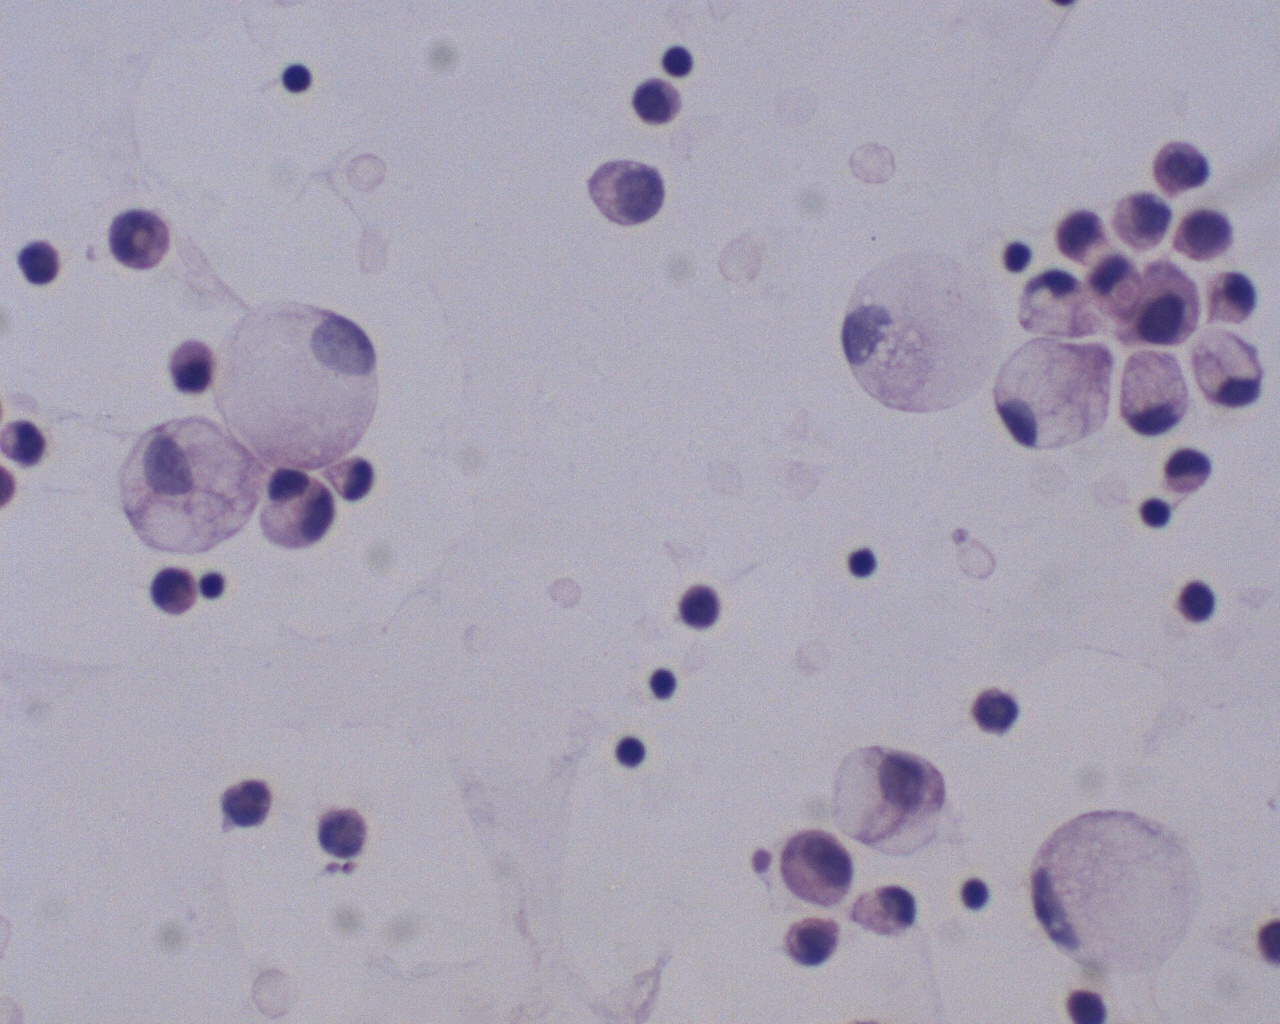ab: (579, 145, 683, 238), (769, 825, 862, 910), (101, 203, 174, 276), (1153, 133, 1210, 199), (624, 73, 688, 126)
histo: (206, 296, 412, 471), (1028, 802, 1209, 976), (835, 248, 1002, 416), (111, 412, 269, 560), (824, 738, 955, 862), (994, 329, 1121, 455), (1190, 321, 1272, 410), (1119, 343, 1193, 438)
lymph: (643, 661, 685, 705), (839, 538, 880, 581), (956, 871, 996, 915), (611, 734, 652, 773), (274, 59, 315, 97), (1132, 494, 1176, 529)
meso: (1124, 258, 1207, 352)
